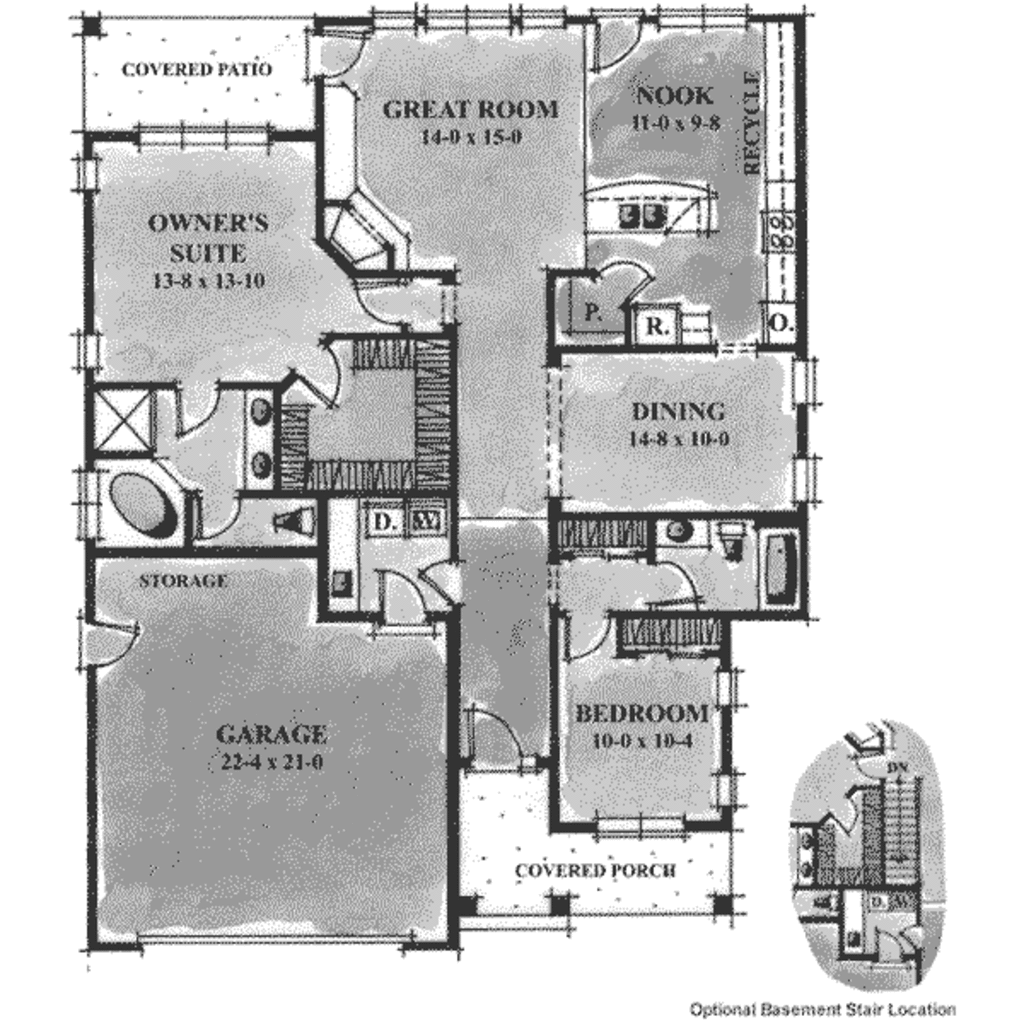door: (457, 697, 540, 778), (62, 601, 151, 676), (283, 328, 354, 417), (359, 565, 435, 643), (300, 28, 383, 87), (589, 5, 646, 81), (162, 376, 225, 443), (408, 551, 475, 611), (351, 284, 424, 338), (589, 246, 649, 308), (643, 555, 700, 612), (554, 614, 611, 666), (192, 489, 249, 539), (870, 924, 914, 966), (849, 747, 892, 785), (895, 916, 932, 957), (827, 795, 856, 840)
kitchen_bar: (573, 181, 733, 239)
large_sink: (270, 498, 332, 543), (711, 512, 752, 565)
small_sink: (232, 384, 278, 489), (646, 516, 708, 554)
stairs: (870, 779, 925, 884)
tub: (97, 454, 178, 544), (760, 524, 803, 614)
window: (362, 1, 575, 38), (129, 119, 275, 158), (656, 1, 745, 35), (708, 763, 754, 819), (784, 357, 830, 409), (589, 820, 691, 841), (68, 320, 108, 373), (62, 152, 102, 205), (787, 457, 825, 511), (713, 662, 748, 717)
